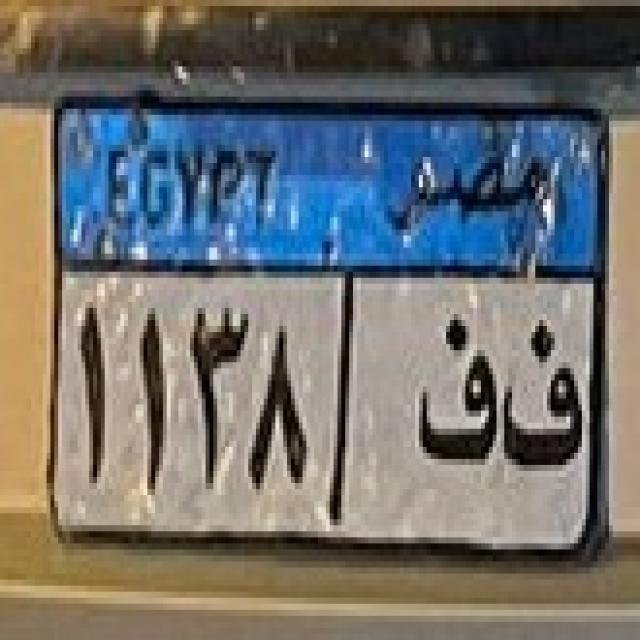1: (67, 293, 124, 490), (130, 299, 178, 494)
3: (188, 292, 253, 498)
8: (254, 308, 317, 501)
F: (414, 291, 500, 475), (507, 302, 586, 492)
